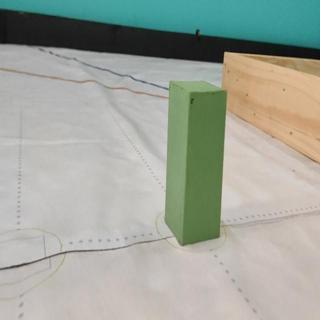greenbox: (164, 77, 228, 248)
